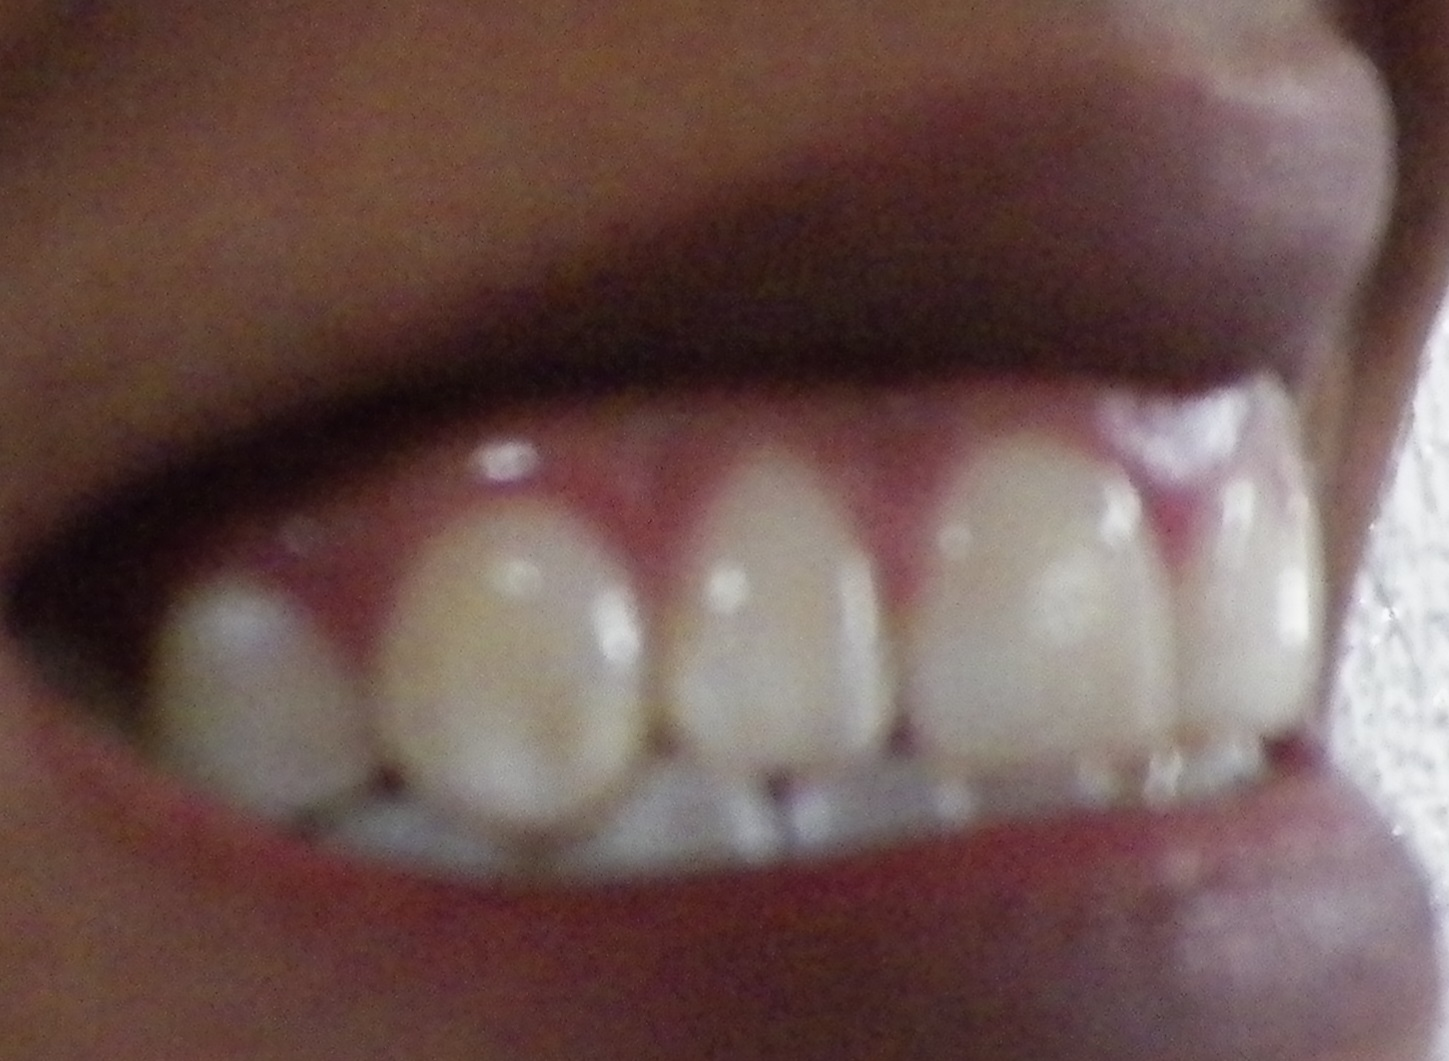boca: (160, 464, 1356, 869)
